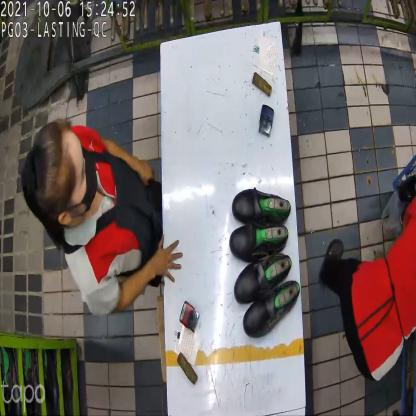shoes: (234, 258, 301, 337), (228, 190, 292, 262)
stamp: (256, 106, 277, 142), (180, 300, 198, 334)
